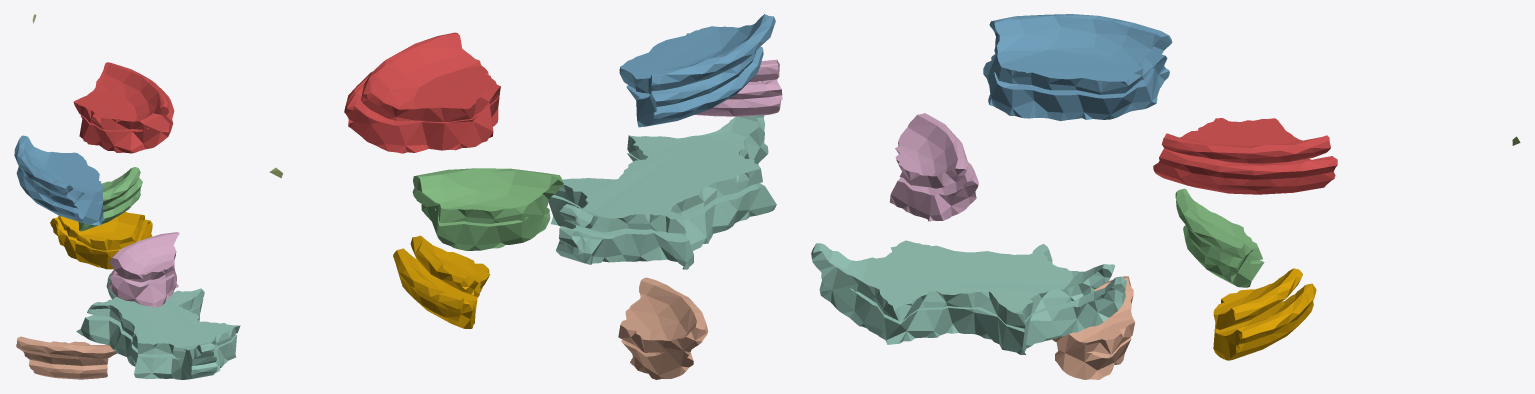
Rendered from mode_6_8pcs_transformed.glb.
3 renders of one model, left to right at view 1: azimuth 30°, elevation 25°; view 2: azimuth 150°, elevation 25°; view 3: azimuth 270°, elevation 25°, orthographic. The views are drawn at different scales.
Parts seen in each view (by area): view 1: piece_5.obj, piece_1.obj, piece_3.obj, piece_6.obj, piece_0.obj, piece_7.obj, piece_4.obj; view 2: piece_5.obj, piece_1.obj, piece_3.obj, piece_4.obj, piece_7.obj, piece_0.obj, piece_6.obj; view 3: piece_5.obj, piece_3.obj, piece_1.obj, piece_6.obj, piece_0.obj, piece_4.obj, piece_7.obj.
Part boxes in pixels (x1,y1,x2,y2): piece_5.obj: (76,273,240,379); piece_1.obj: (73,62,174,153); piece_3.obj: (14,135,104,225); piece_6.obj: (109,232,179,307); piece_0.obj: (50,211,152,269); piece_7.obj: (16,336,116,379); piece_4.obj: (78,167,142,231); piece_5.obj: (548,115,776,269); piece_1.obj: (344,32,500,153); piece_3.obj: (619,14,775,127); piece_4.obj: (412,168,563,250); piece_7.obj: (618,277,708,379); piece_0.obj: (393,235,490,328); piece_6.obj: (695,59,782,116); piece_5.obj: (811,240,1126,354); piece_3.obj: (983,14,1172,121); piece_1.obj: (1153,118,1337,194); piece_6.obj: (889,113,978,221); piece_0.obj: (1213,268,1316,360); piece_4.obj: (1175,188,1264,287); piece_7.obj: (1052,276,1135,379).
Size of the model in its own units: 1 by 1.11 by 2.23.
